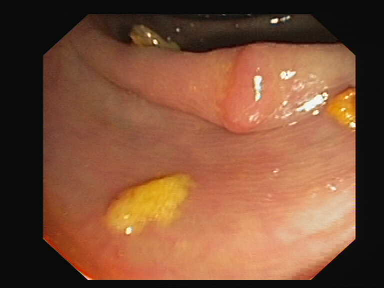polyp: (90, 148, 218, 248), (211, 40, 302, 132), (124, 18, 188, 61), (327, 74, 356, 138)
